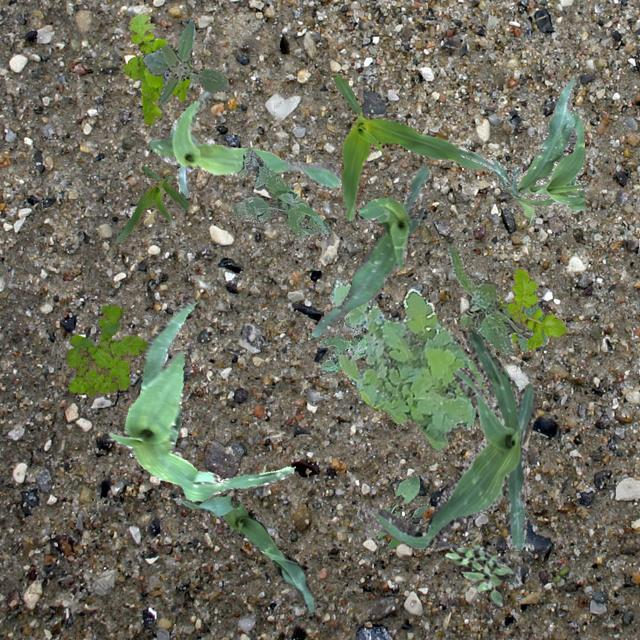crop: (356, 328, 536, 550), (106, 298, 294, 500), (332, 74, 488, 220), (310, 164, 428, 336), (150, 90, 340, 196), (458, 76, 584, 224), (172, 492, 314, 612), (114, 165, 188, 243), (376, 473, 418, 538), (516, 302, 546, 348)
weed: (328, 276, 491, 449), (446, 244, 532, 354), (230, 147, 330, 240), (121, 12, 189, 124), (140, 18, 228, 104), (65, 304, 146, 396), (498, 266, 566, 350), (444, 544, 514, 608), (316, 314, 370, 370), (382, 502, 428, 548)
